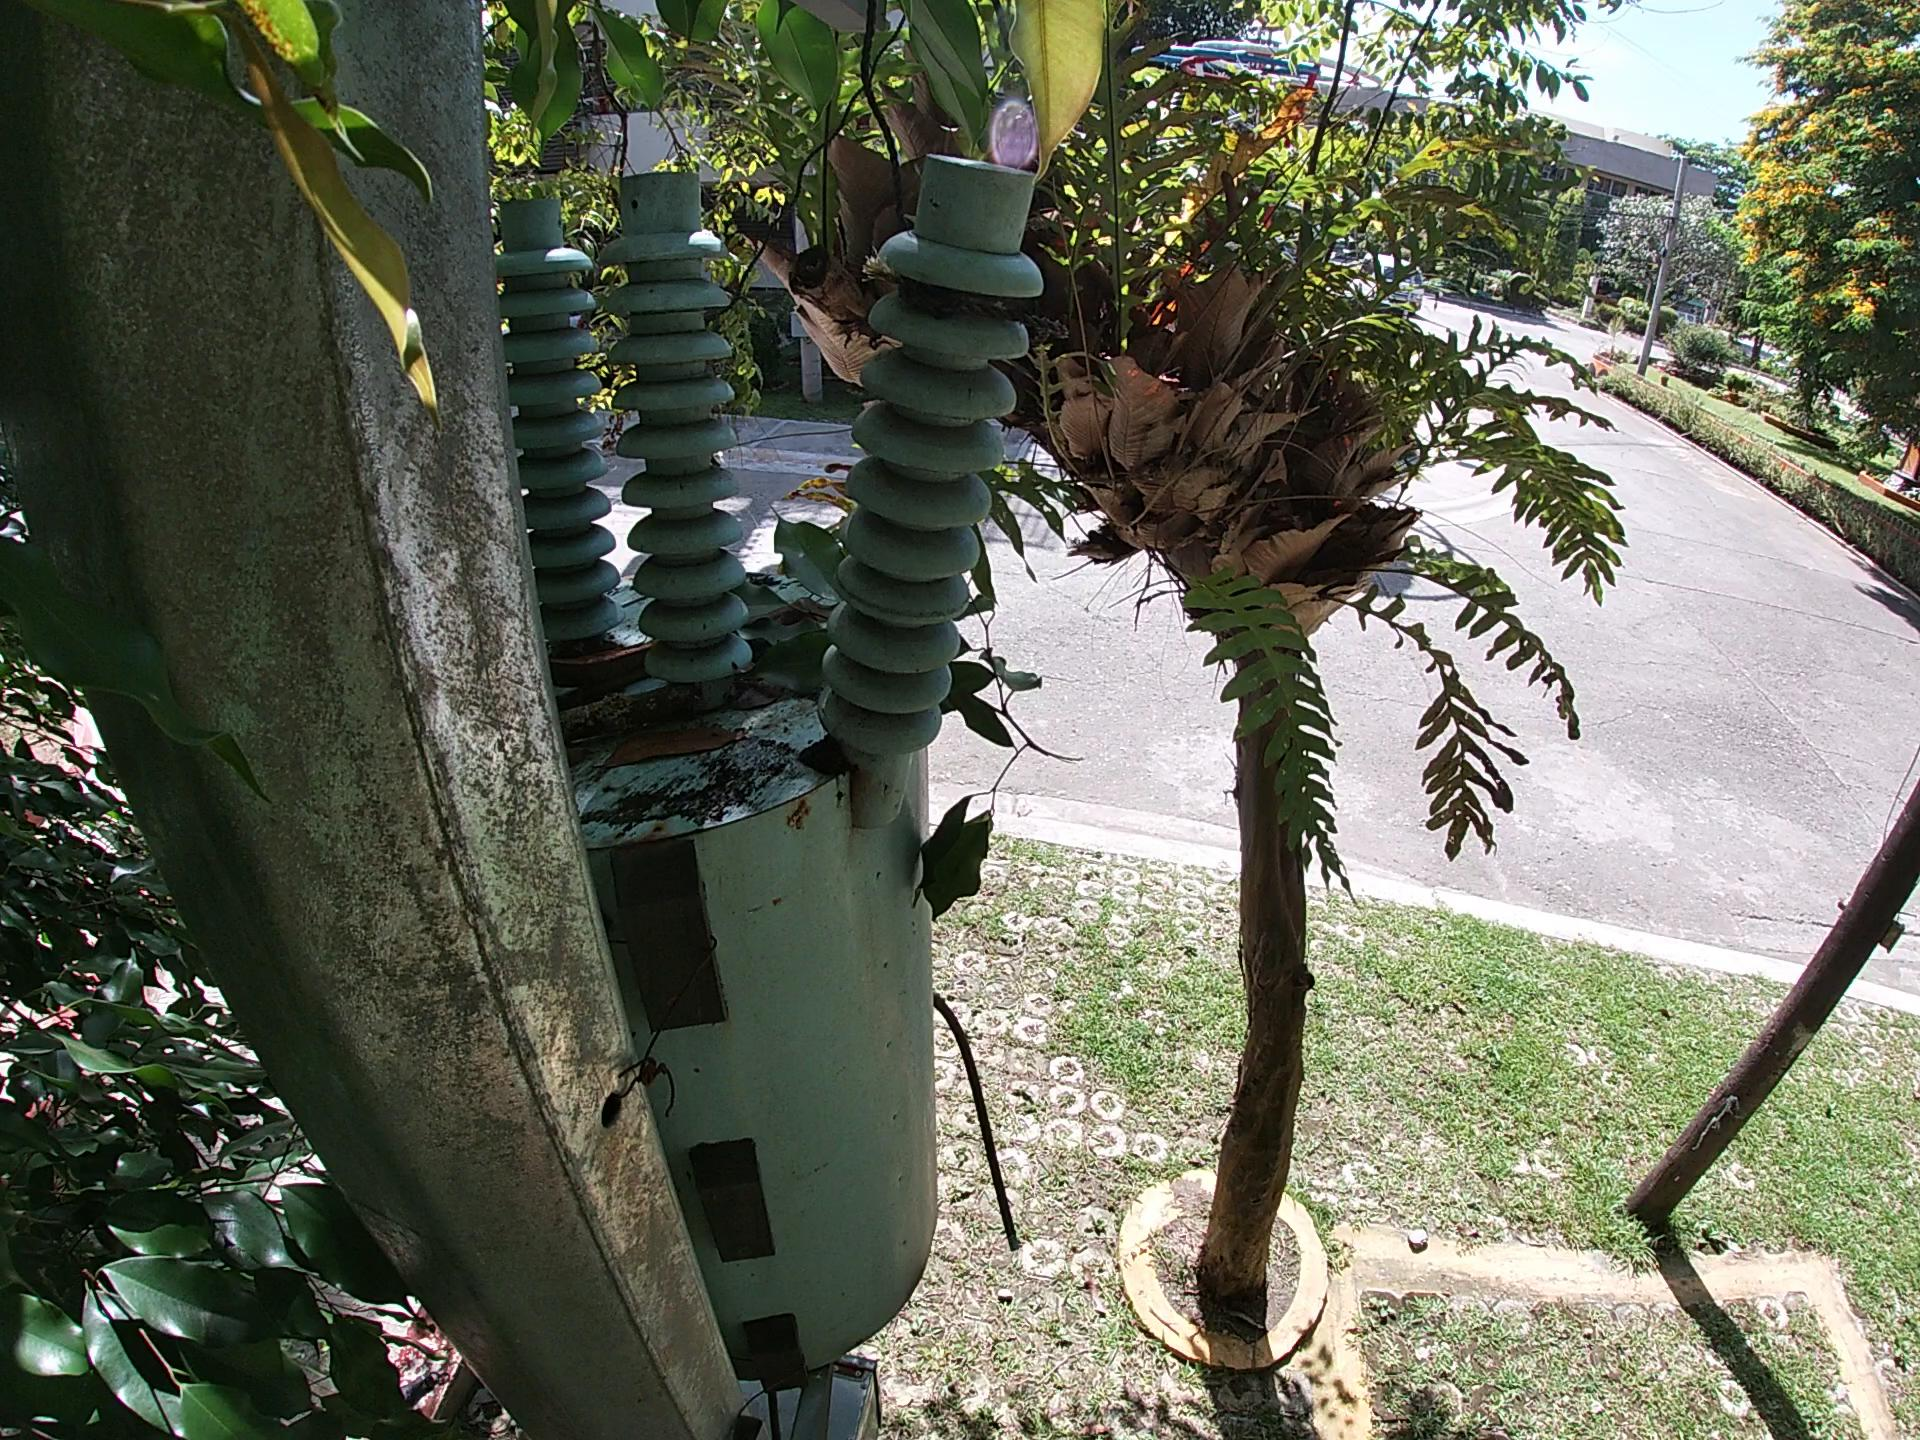branch with leaves: (919, 523, 1079, 988)
leaf: (724, 470, 853, 722), (593, 734, 735, 761)
mahogany fruit: (543, 637, 661, 682)
tree branch: (556, 688, 706, 717)
